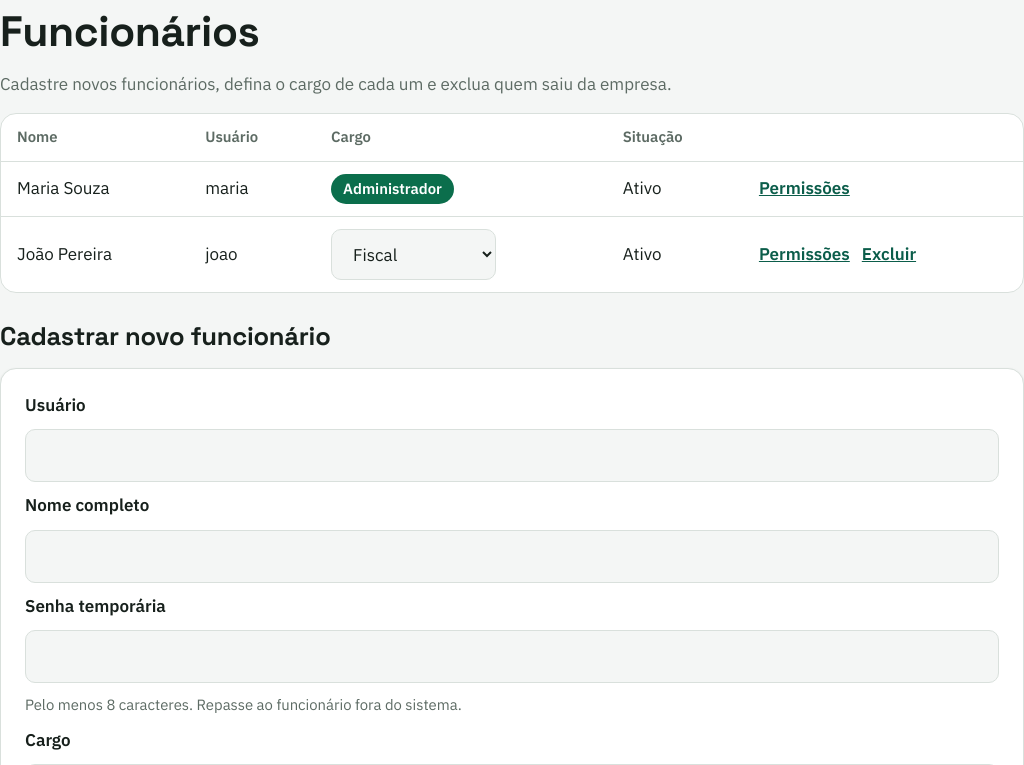
Test: CreateEmployeePage - cadastro › bloqueia o formulário enquanto cadastra
This screenshot has width=1024, height=765.
Check: the text "João Pereira" is shown, box left=1, top=216, right=189, bottom=292
Type "ana" into the field labelled "Usuário".
click(512, 456); type("ana")  # box left=25, top=429, right=999, bottom=482
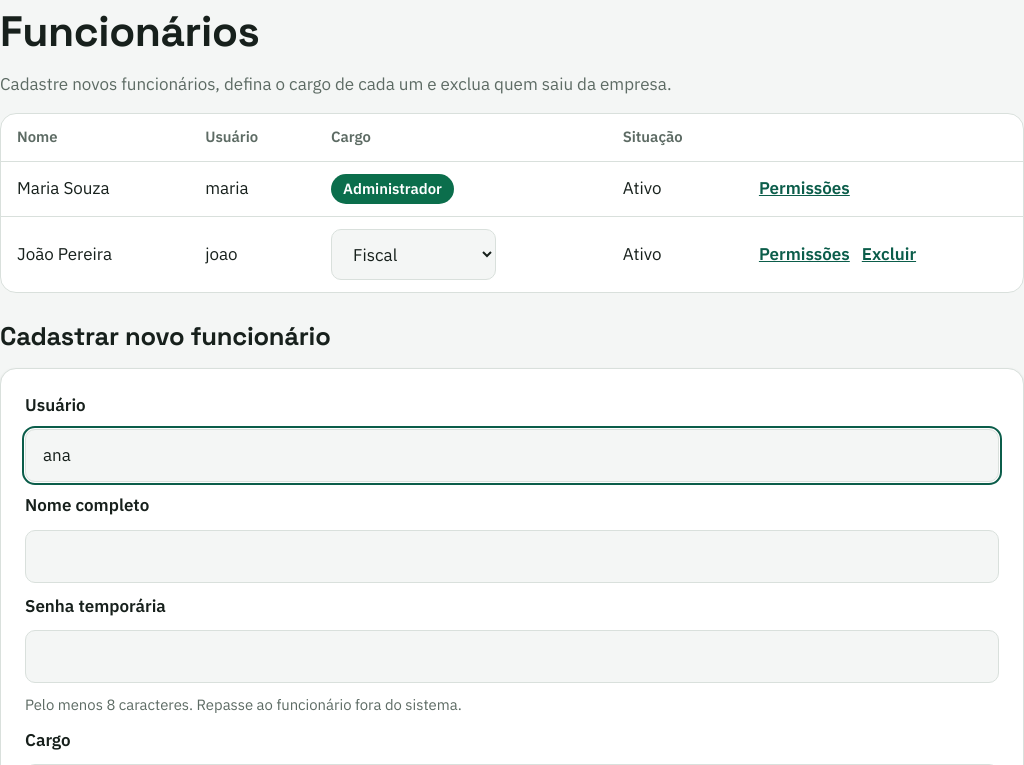
Type "Ana Costa" into the field labelled "Nome completo".
click(512, 556); type("Ana Costa")  # box left=25, top=530, right=999, bottom=583
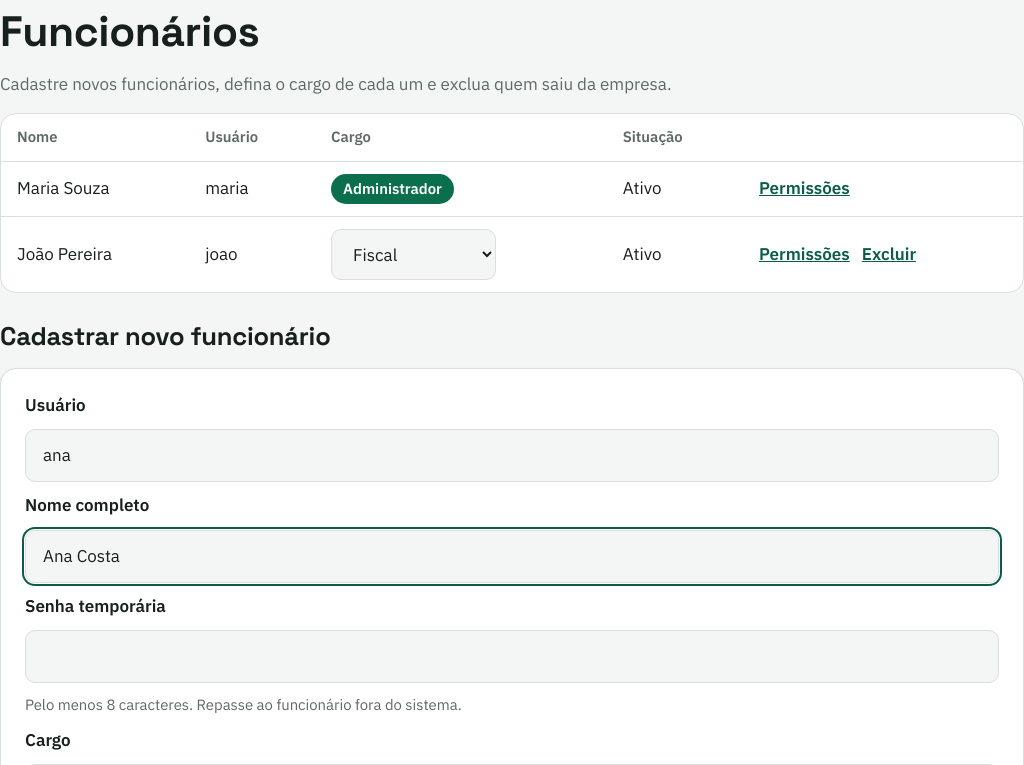
Type "senha-temp-1" into the field labelled "Senha temporária".
click(512, 657); type("senha-temp-1")  # box left=25, top=630, right=999, bottom=683
(page scrolled)
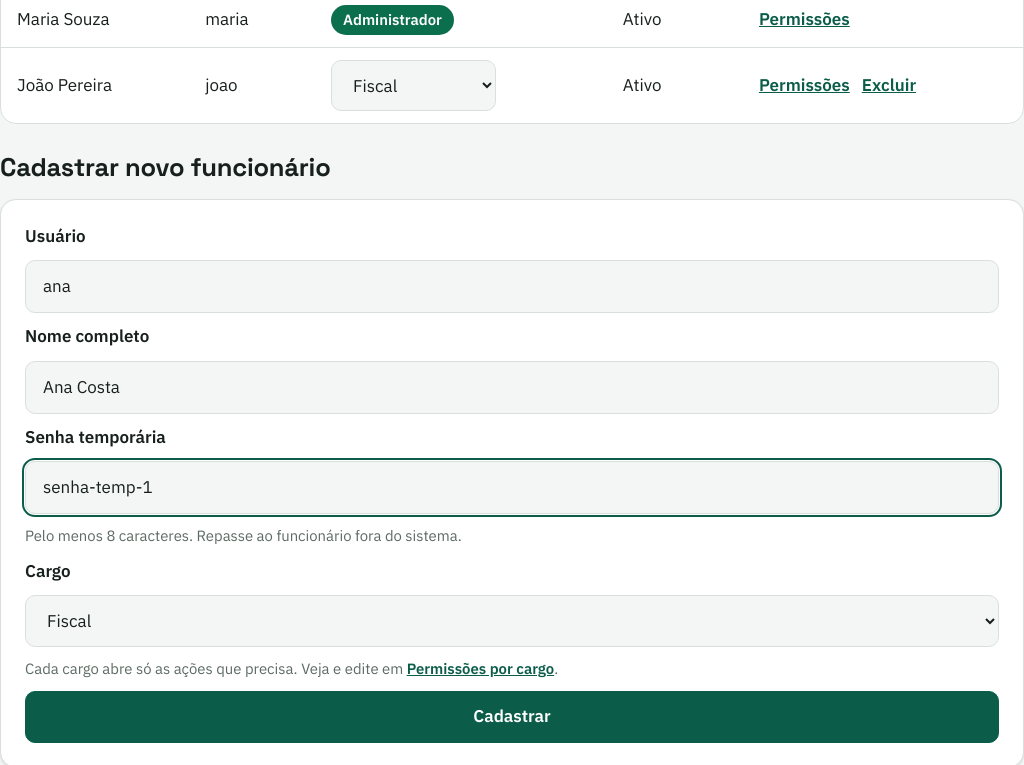
Click the button "Cadastrar".
click(512, 717)  # box left=25, top=691, right=999, bottom=742
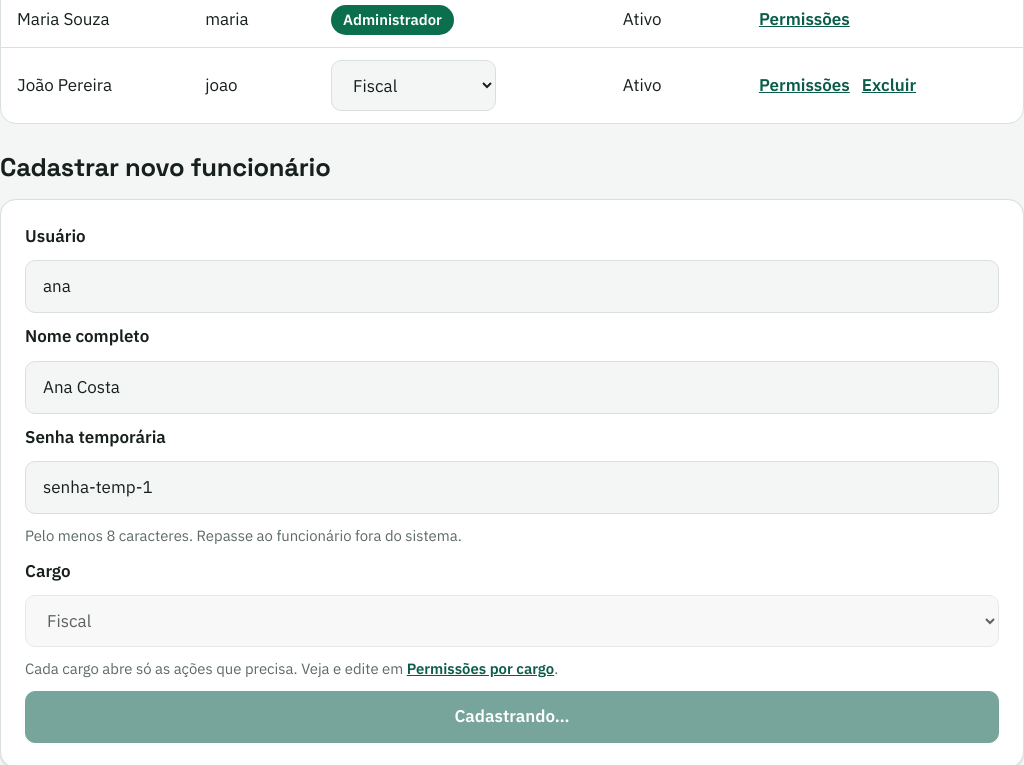
Check: the field labelled "Usuário" is disabled, box left=25, top=260, right=999, bottom=313
Check: the button "Cadastrando…" is disabled, box left=25, top=691, right=999, bottom=742
